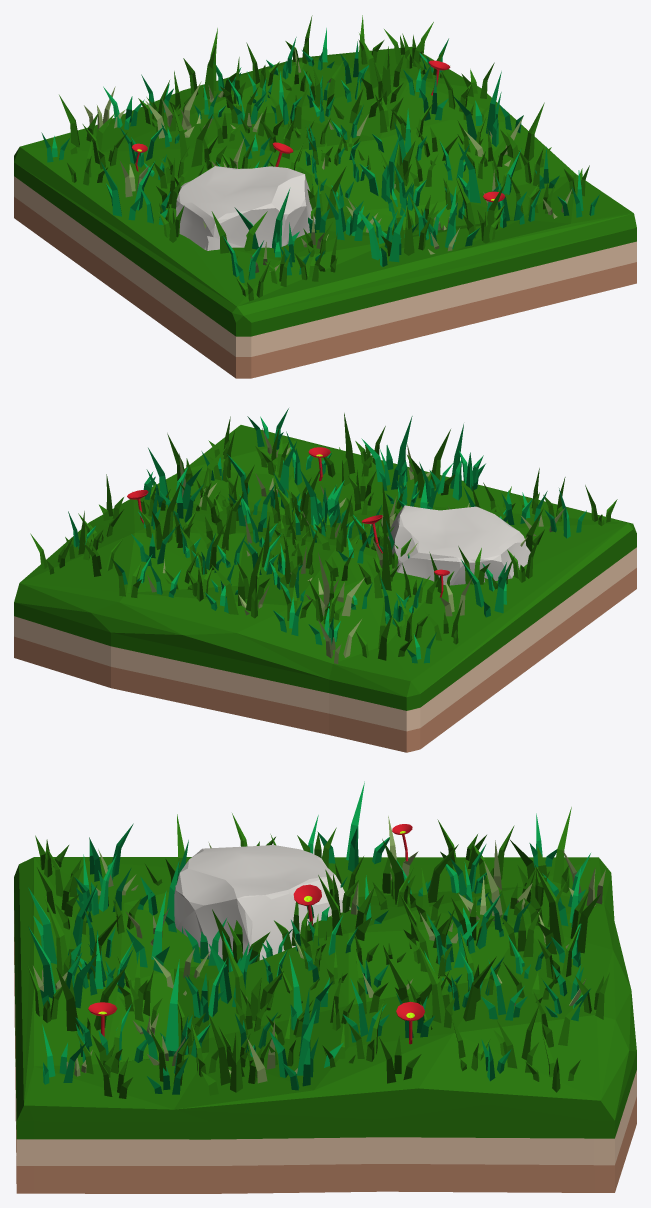
The model's file is 2_Grassland.fbx.
3 views of the same model, one above another, from view 1: azimuth 30°, elevation 25°; view 2: azimuth 150°, elevation 25°; view 3: azimuth 270°, elevation 25° (orthographic). The views are drawn at different scales.
Visible parts, largest first — view 1: 2_Grass_Map; view 2: 2_Grass_Map; view 3: 2_Grass_Map.
Boxes of the visible parts, x1,y1,x2,y2 form: 2_Grass_Map: (14,15,636,378); 2_Grass_Map: (14,408,636,752); 2_Grass_Map: (14,781,636,1193).
Bounding box in the file's own units: 0.9167 × 0.3437 × 0.9351.
